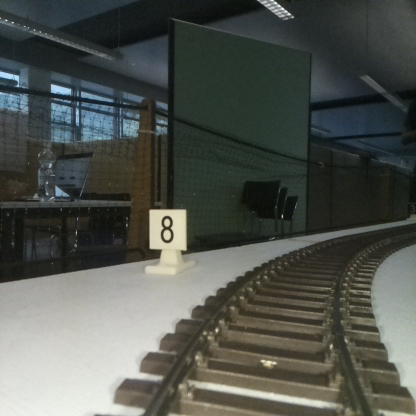white-stop-8: (149, 210, 186, 272)
